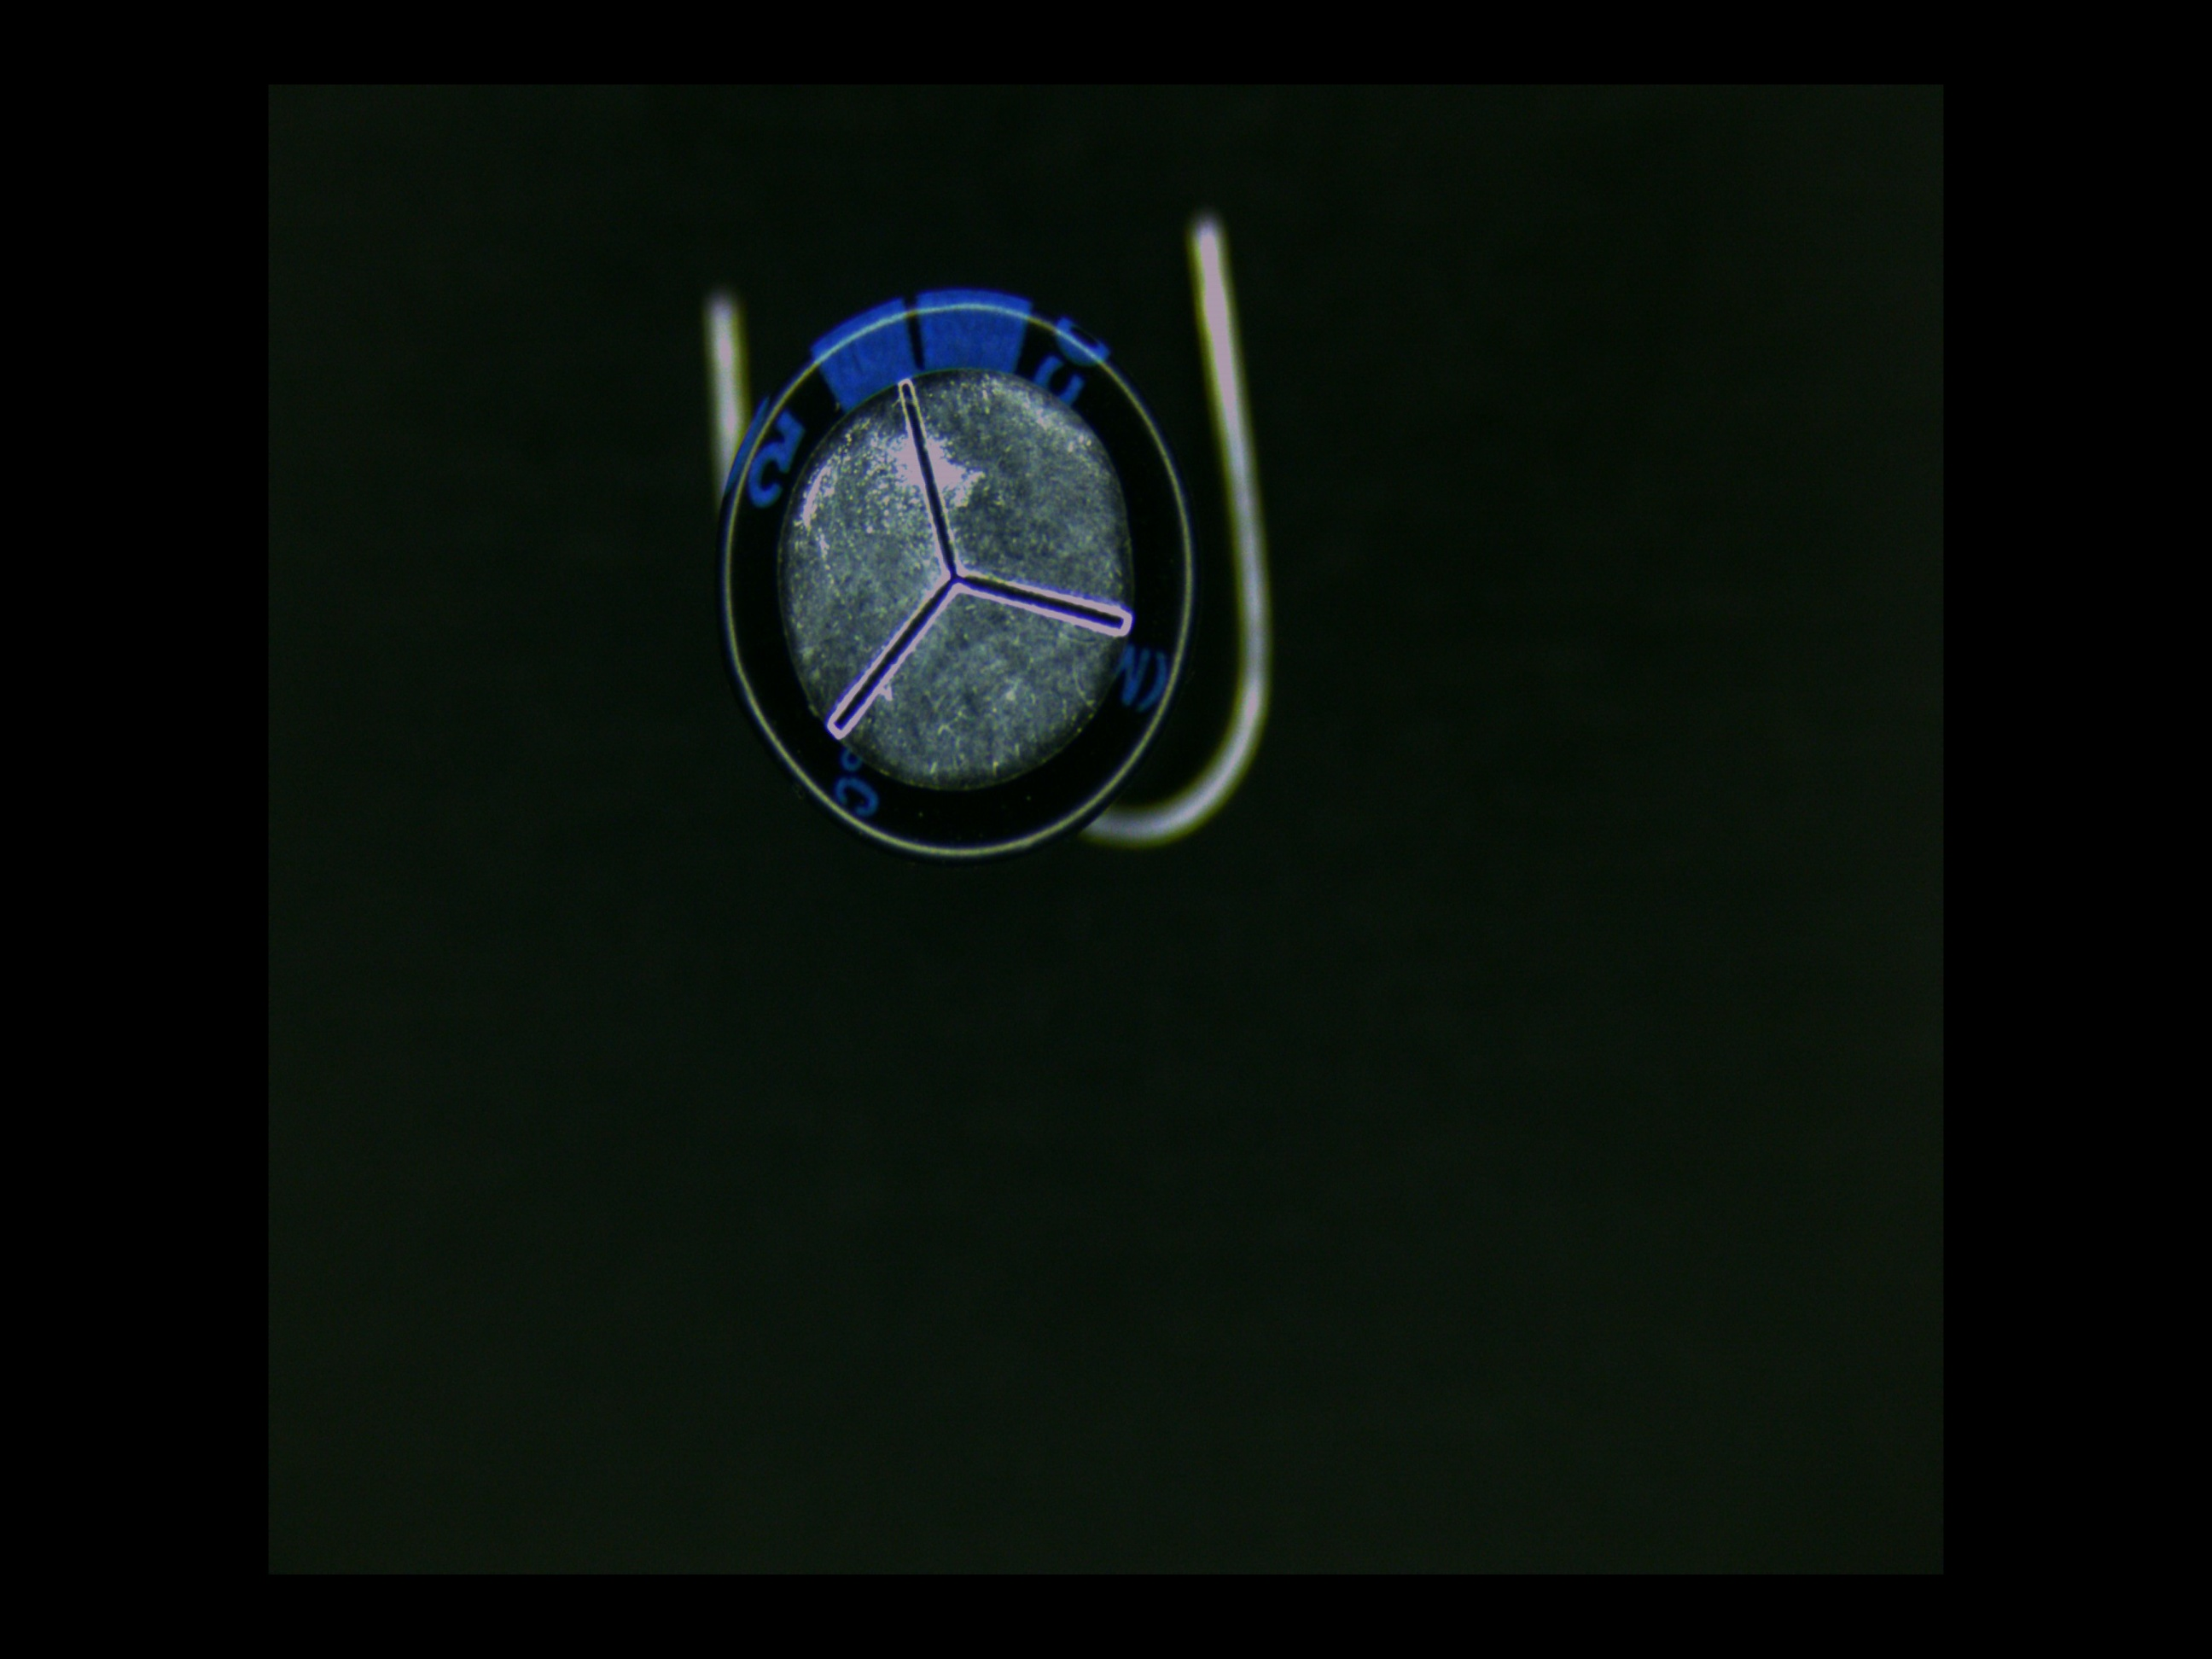c2: (716, 284, 1186, 861)
